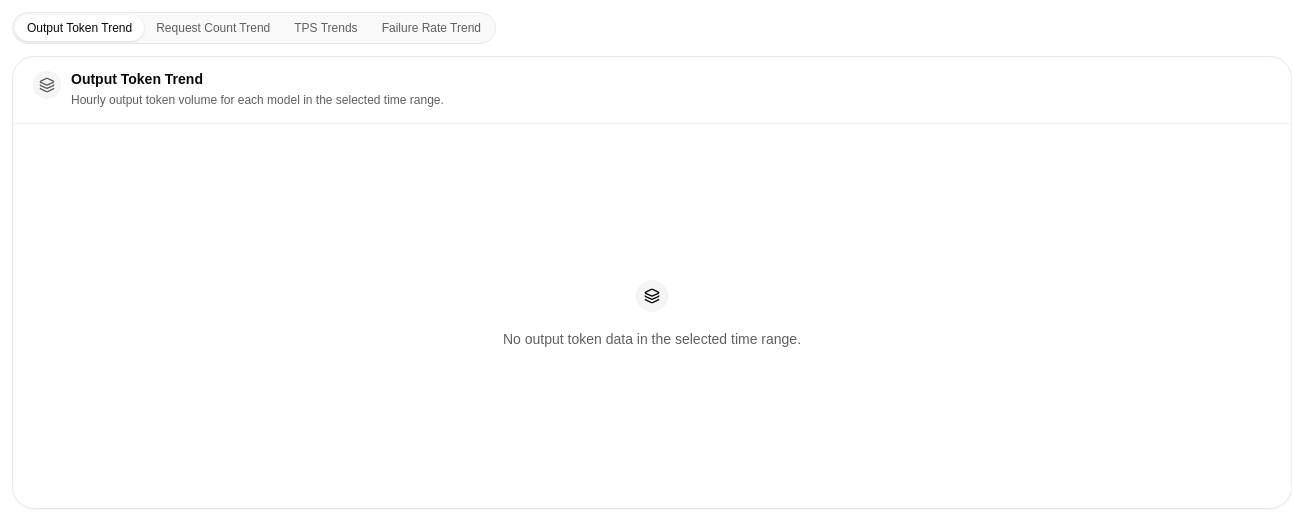
Test case: ModelLogCharts metric panels › shows friendly empty states for no models instead of empty charts
Expected: the text "No output token data in the selected time range." is shown, [503,328,801,351]
Click the button "Failure Rate Trend".
click(431, 28)  # box [370,15,493,41]
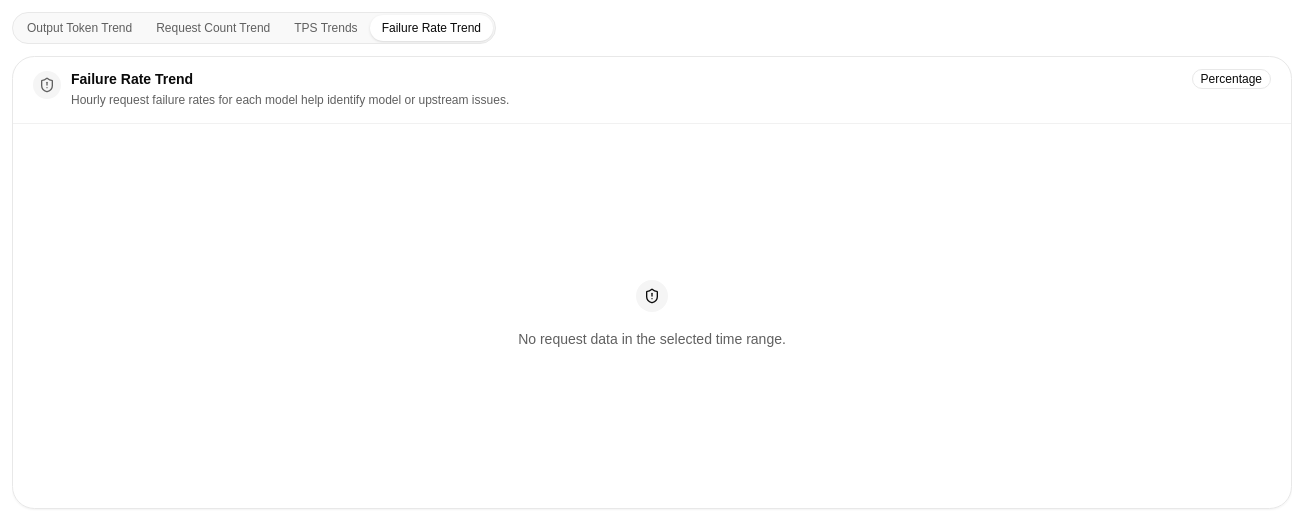
Expected: the text "No request data in the selected time range." is shown, [518,328,786,351]
